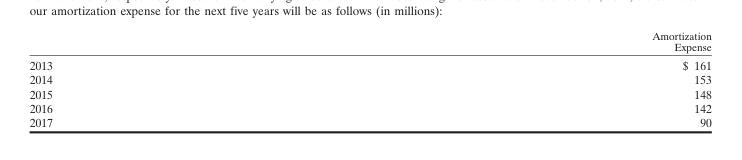table: (28, 29, 710, 128)
table column: (351, 29, 710, 128), (28, 29, 351, 128)
table column header: (28, 29, 710, 55)
table row: (28, 29, 710, 55), (28, 55, 710, 72), (28, 72, 710, 86), (28, 86, 710, 100), (28, 100, 710, 114), (28, 114, 710, 128)
